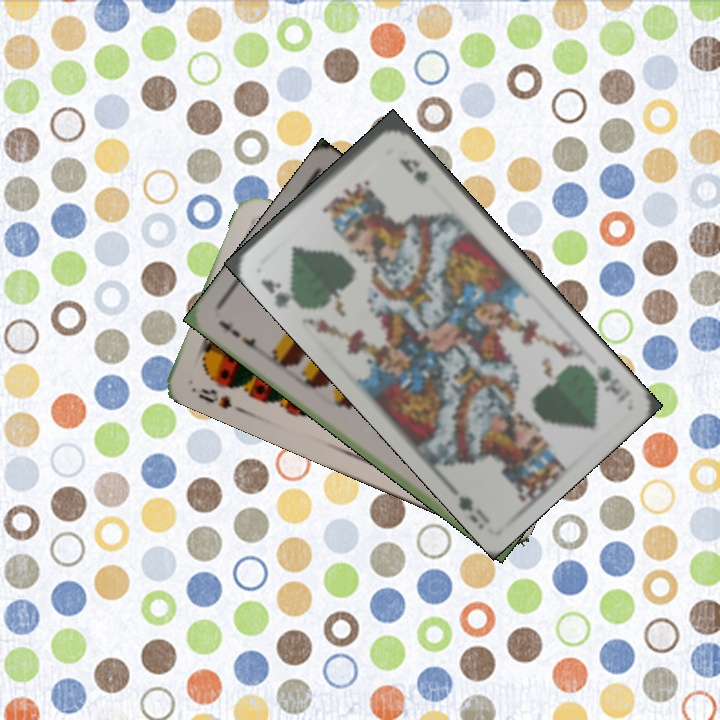E7: (213, 316, 266, 357)
GK: (256, 275, 298, 312), (592, 361, 625, 398)
S8: (194, 384, 235, 412)
